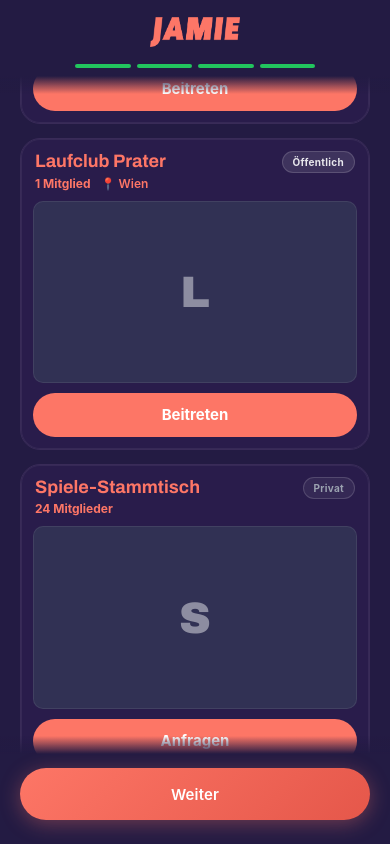
Test case: OnboardingClubs — joining › maps JOIN_REQUEST_BLOCKED onto the button
(page scrolled)
Click the button "Beitreten" below "Laufclub Prater". click: (195, 415)
box: left=33, top=393, right=357, bottom=437
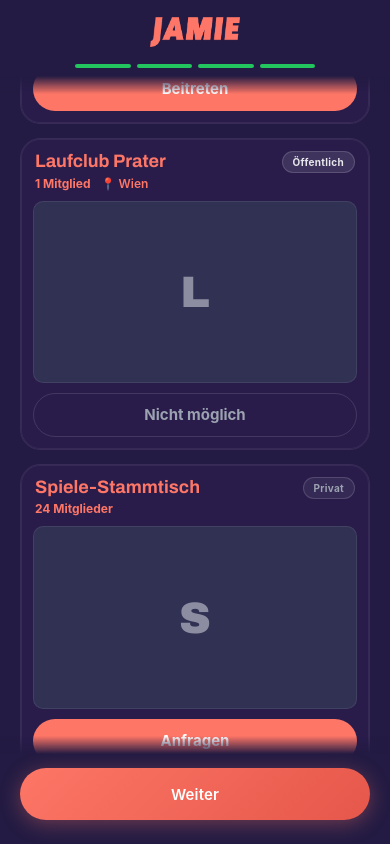
Expected: the button "Nicht möglich" is shown, left=33, top=393, right=357, bottom=437
Expected: the button "Nicht möglich" is disabled, left=33, top=393, right=357, bottom=437
